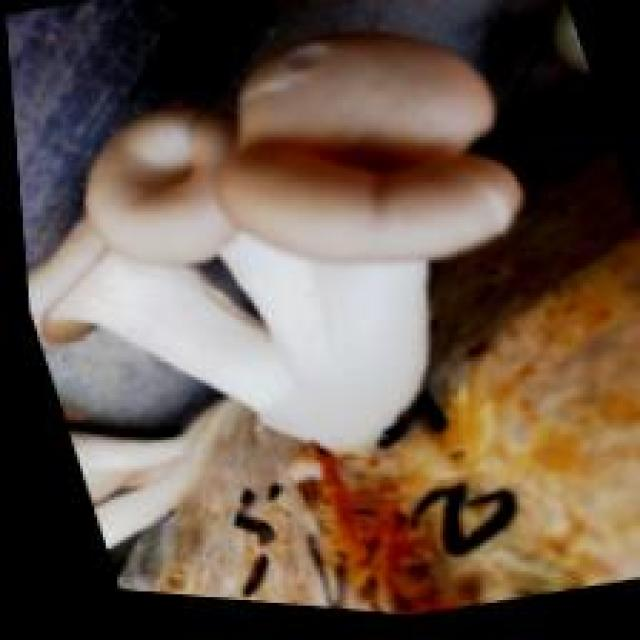field-mushroom: (29, 26, 528, 457)
